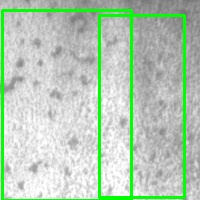pitted_surface: (2, 10, 131, 200), (99, 15, 184, 197)
